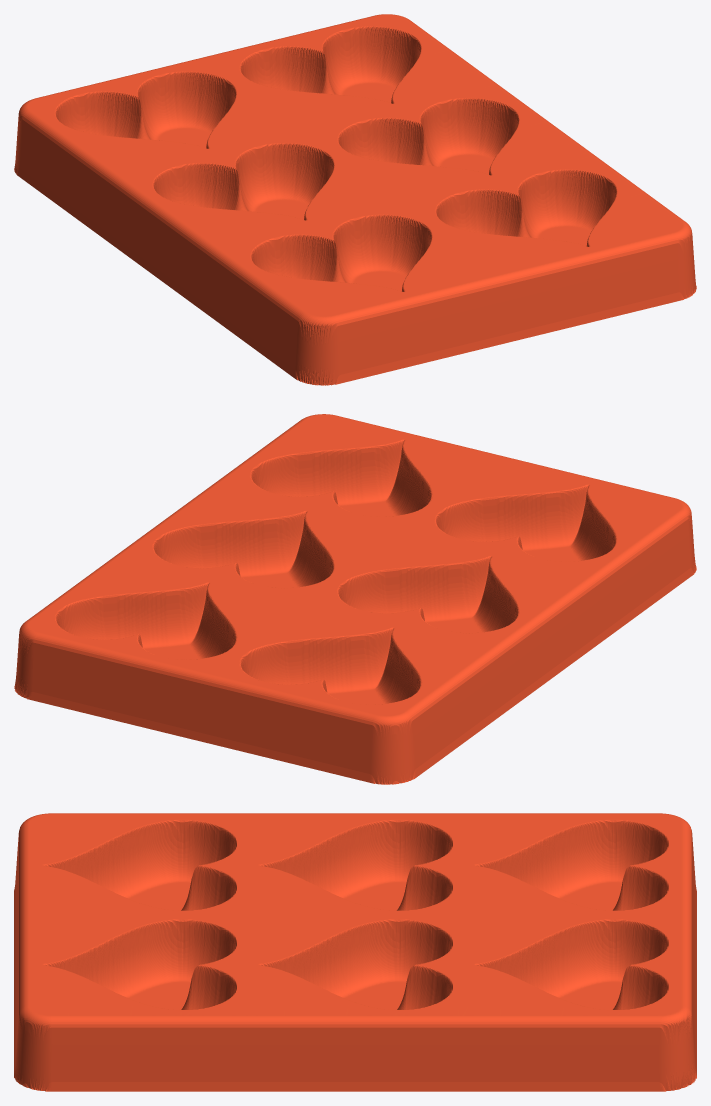
File: mold.glb
3 views of the same model, one above another, from view 1: azimuth 30°, elevation 25°; view 2: azimuth 150°, elevation 25°; view 3: azimuth 270°, elevation 25° (orthographic). The views are drawn at different scales.
Visible parts, largest first — view 1: geometry_0; view 2: geometry_0; view 3: geometry_0.
Part boxes in pixels (bbox=[...]): geometry_0: bbox=[14, 14, 696, 385]; geometry_0: bbox=[14, 414, 696, 784]; geometry_0: bbox=[14, 813, 696, 1091].
Size of the model in its own units: 0.1222 by 0.0185 by 0.1648.
